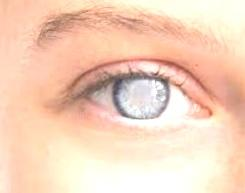eye: (111, 75, 170, 119)
